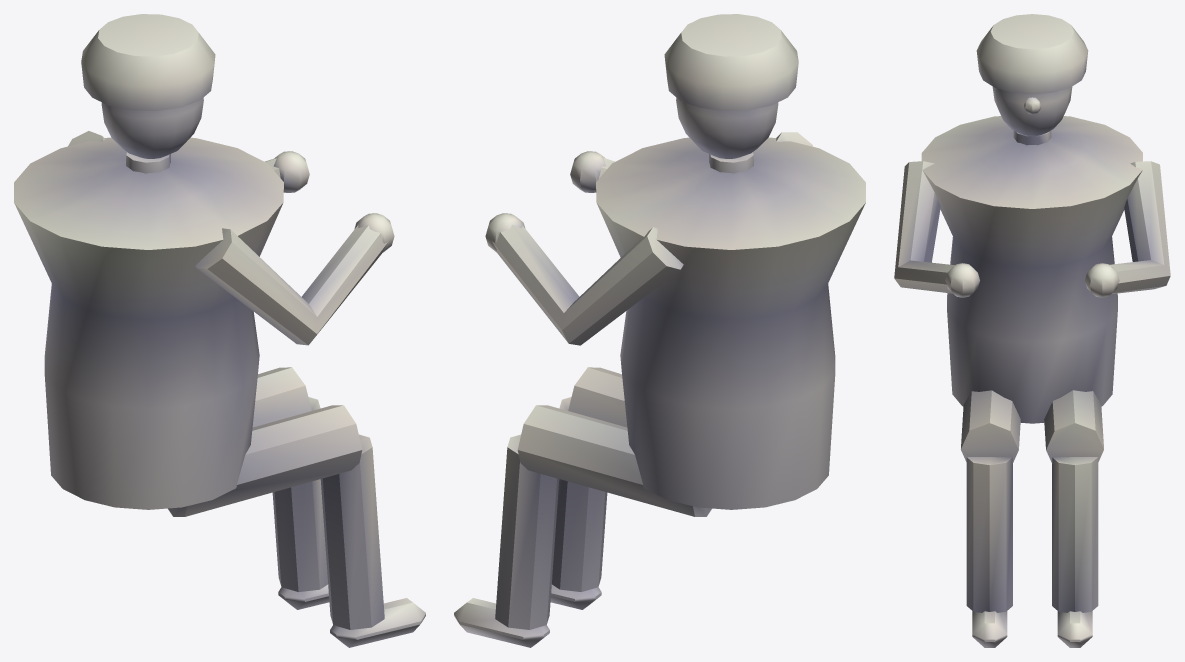
File: bhima-driving.glb
3 views of the same model, side by side, from view 1: azimuth 30°, elevation 25°; view 2: azimuth 150°, elevation 25°; view 3: azimuth 270°, elevation 25° (orthographic). The views are drawn at different scales.
Parts seen in each view (by area): view 1: body; view 2: body; view 3: body.
Boxes of the visible parts, x1,y1,x2,y2 form: body: (14,14,425,647); body: (454,14,865,647); body: (894,14,1170,647).
Bounding box in the file's own units: 0.9 × 1.5 × 0.7136.
